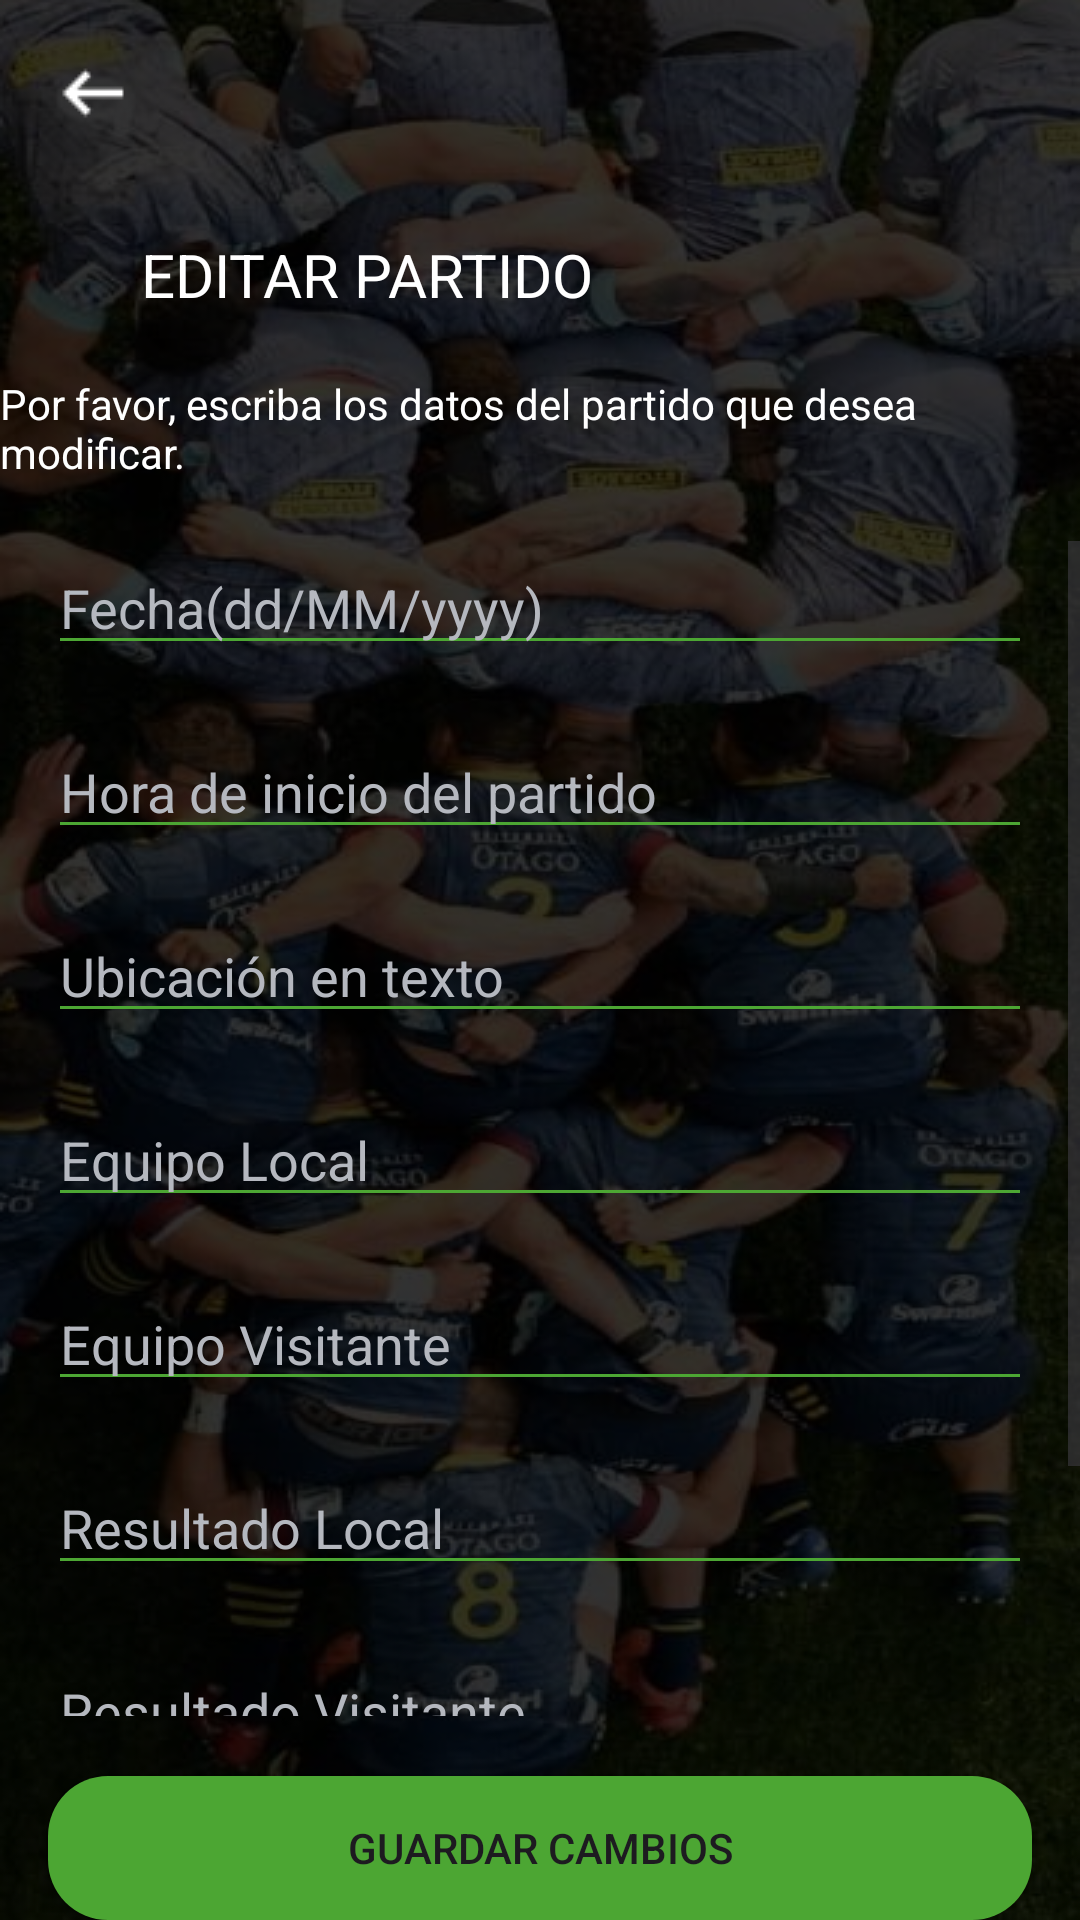

Screen size 1080w x 1920h. Icon name, then its box in pixels as rect(x1, y1, x2, y2):
short left: rect(62, 69, 124, 117)
